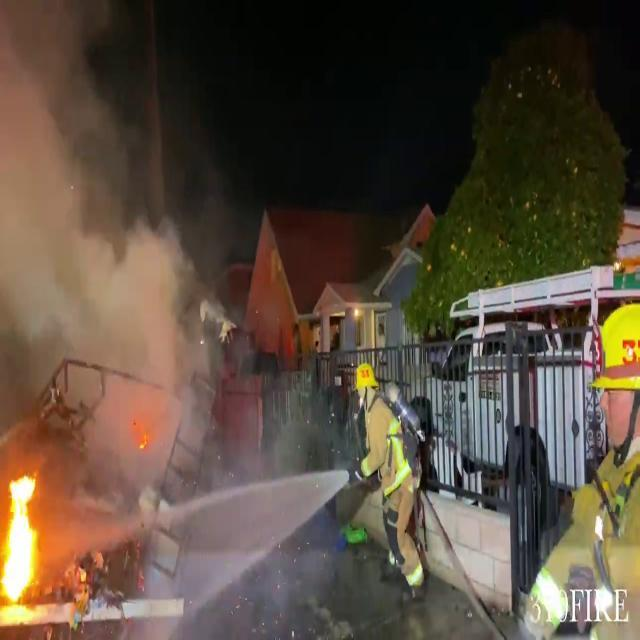Fire: (0, 470, 52, 614)
Smoke: (0, 0, 228, 505)
